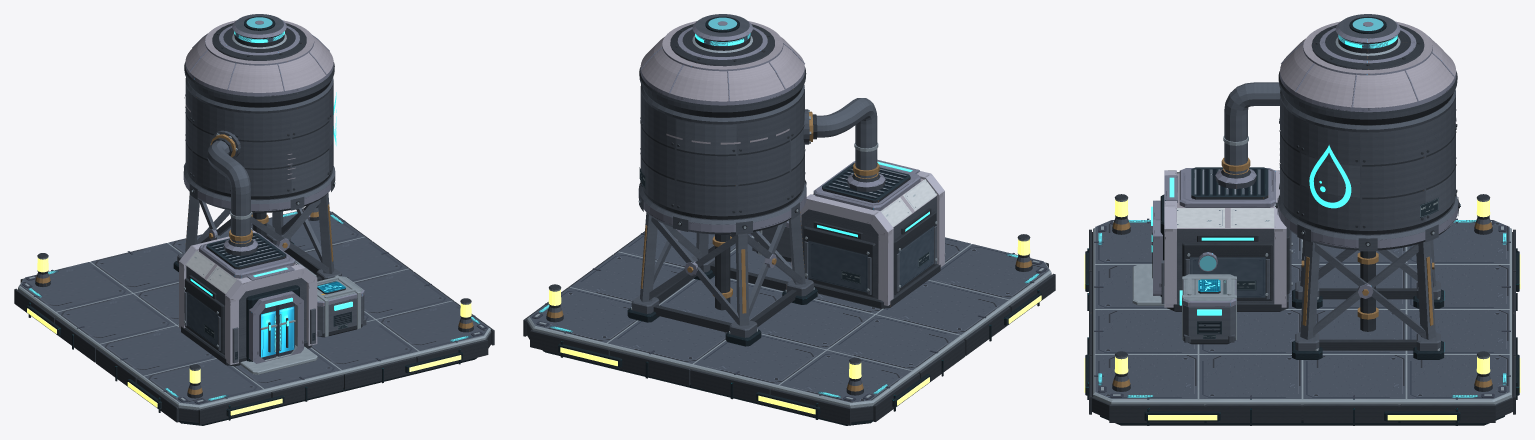
The model's file is TA01_TorreDeAguaBasica.fbx.
The picture shows the model from 3 angles, left to right: view 1: azimuth 30°, elevation 25°; view 2: azimuth 150°, elevation 25°; view 3: azimuth 270°, elevation 25°; orthographic projection. The views are drawn at different scales.
Parts seen in each view (by area): view 1: Estructura_1; view 2: Estructura_1; view 3: Estructura_1, CristalYAgua_1.
Part boxes in pixels (left/top/right/bottom): Estructura_1: left=14, top=14, right=494, bottom=425; Estructura_1: left=523, top=14, right=1055, bottom=425; Estructura_1: left=1084, top=14, right=1520, bottom=425; CristalYAgua_1: left=1199, top=18, right=1383, bottom=270.
Size of the model in its own units: 5.38 by 4.43 by 5.26.
